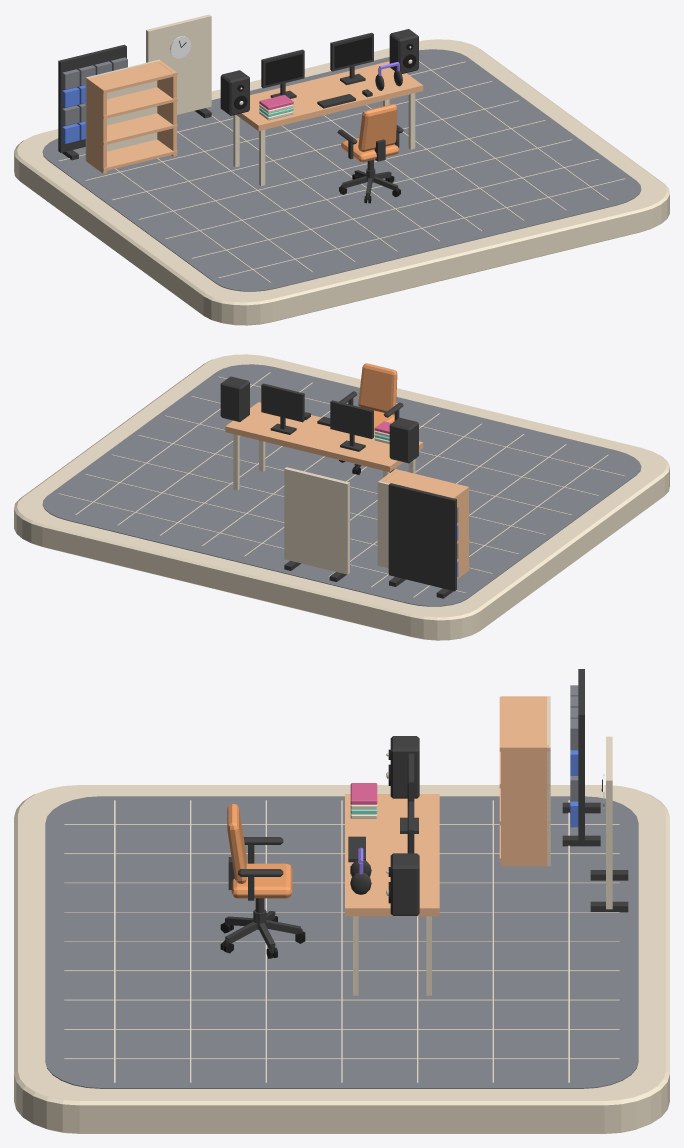
3 views of the same model, one above another, from view 1: azimuth 30°, elevation 25°; view 2: azimuth 150°, elevation 25°; view 3: azimuth 270°, elevation 25° (orthographic). The views are drawn at different scales.
Visible parts, largest first — view 1: COM-02 Floor Surface, COM-01 Rounded Base Direct, Top, Panel.001, COM-04_Chair_blender_direct, Panel, Side, Frame.001, Frame, Back, Shelf.003, Shelf (+11 smaller); view 2: COM-02 Floor Surface, COM-01 Rounded Base Direct, Panel, Panel.001, Top, COM-04_Chair_blender_direct, Frame.001, Frame, Enclosure, Enclosure.001, Shelf.003, Back (+1 smaller); view 3: COM-02 Floor Surface, COM-01 Rounded Base Direct, Top, COM-04_Chair_blender_direct, Side.001, Shelf.003, Enclosure.001, Enclosure, Panel, Panel.001, Grout X.006, Grout X.008 (+4 smaller).
Part boxes in pixels (box(x1,y1,x2,y2)): COM-02 Floor Surface: box(42, 49, 641, 291); COM-01 Rounded Base Direct: box(14, 39, 669, 325); Top: box(233, 61, 423, 185); Panel.001: box(146, 14, 211, 114); COM-04_Chair_blender_direct: box(337, 104, 403, 203); Panel: box(58, 44, 126, 152); Side: box(87, 77, 106, 173); Frame.001: box(330, 32, 373, 85); Frame: box(261, 49, 304, 98); Back: box(85, 59, 160, 161); Shelf.003: box(87, 61, 177, 93); Shelf: box(87, 139, 177, 171); COM-02 Floor Surface: box(42, 364, 641, 606); COM-01 Rounded Base Direct: box(14, 354, 669, 640); Panel: box(388, 483, 456, 591); Panel.001: box(284, 467, 349, 574); Top: box(225, 402, 423, 490); COM-04_Chair_blender_direct: box(339, 363, 403, 474); Frame.001: box(261, 383, 304, 434); Frame: box(330, 400, 373, 451); Enclosure: box(389, 417, 418, 463); Enclosure.001: box(220, 376, 249, 421); Shelf.003: box(383, 469, 469, 498); Back: box(377, 481, 389, 568); COM-02 Floor Surface: box(45, 796, 638, 1088); COM-01 Rounded Base Direct: box(14, 785, 669, 1133); Top: box(345, 794, 439, 995); COM-04_Chair_blender_direct: box(220, 804, 305, 958); Side.001: box(501, 745, 548, 866); Shelf.003: box(499, 696, 549, 751); Enclosure.001: box(390, 853, 419, 915); Enclosure: box(390, 736, 419, 798); Panel: box(578, 669, 584, 843); Panel.001: box(606, 736, 612, 909); Grout X.006: box(64, 999, 619, 1000); Grout X.008: box(64, 1058, 619, 1059).
Size of the model in its own units: 6 by 1.61 by 5.2.
1 material, 1 textured.
